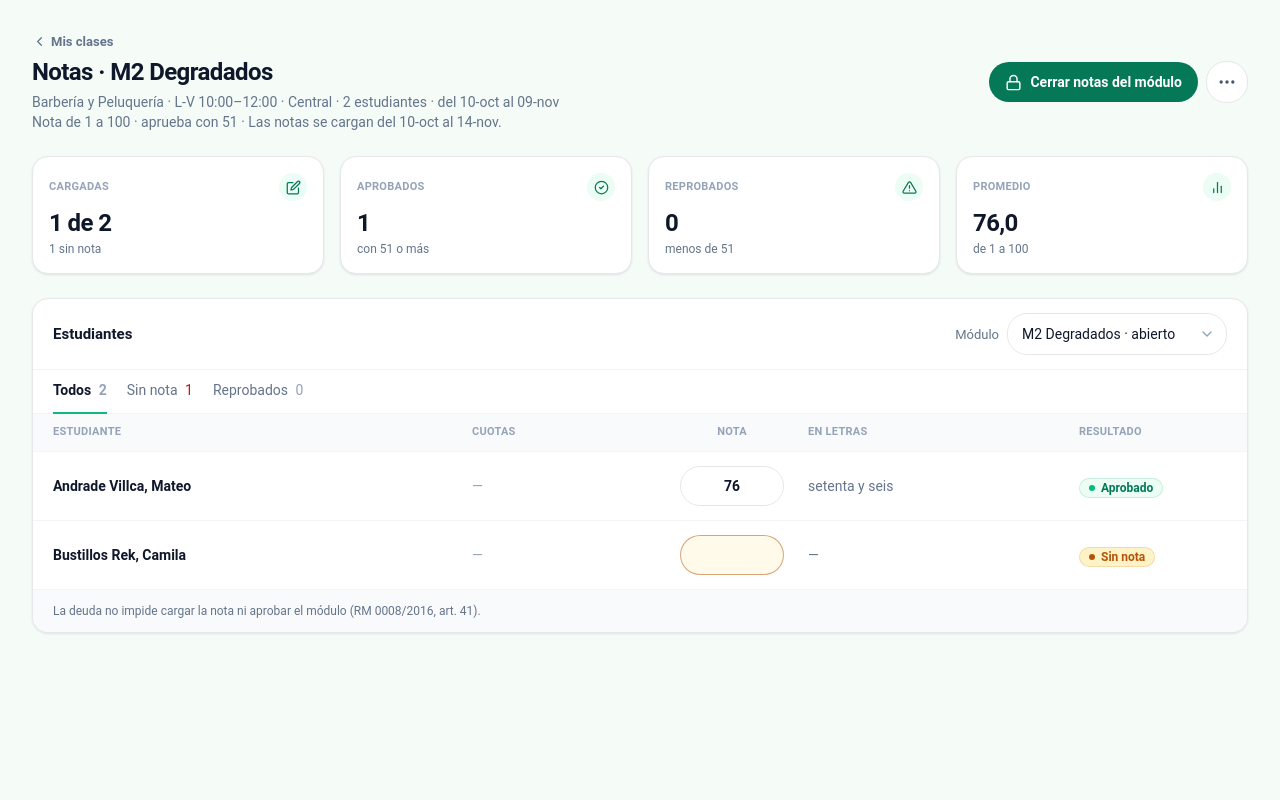
Test: L7 · Notas: borrador y «Guardar notas» › «Guardar notas» manda UN solo pedido con todas las cambiadas, y la barra se va
Replace the text in the field named "Nota de Andrade Villca, Mateo" with "80" at {"x": 732, "y": 486}, box [680,466,784,506]
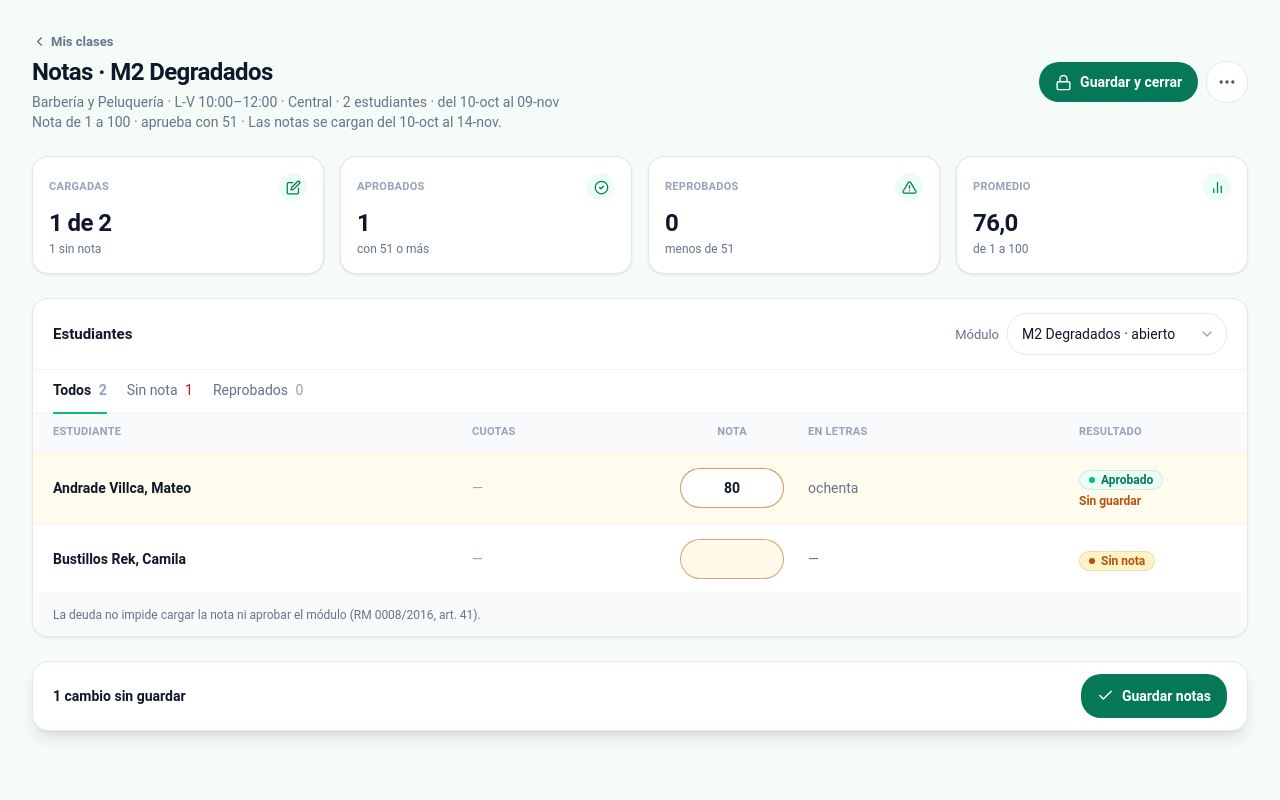
Type "45" into the field named "Nota de Bustillos Rek, Camila" at {"x": 732, "y": 559}, box [680,539,784,579]
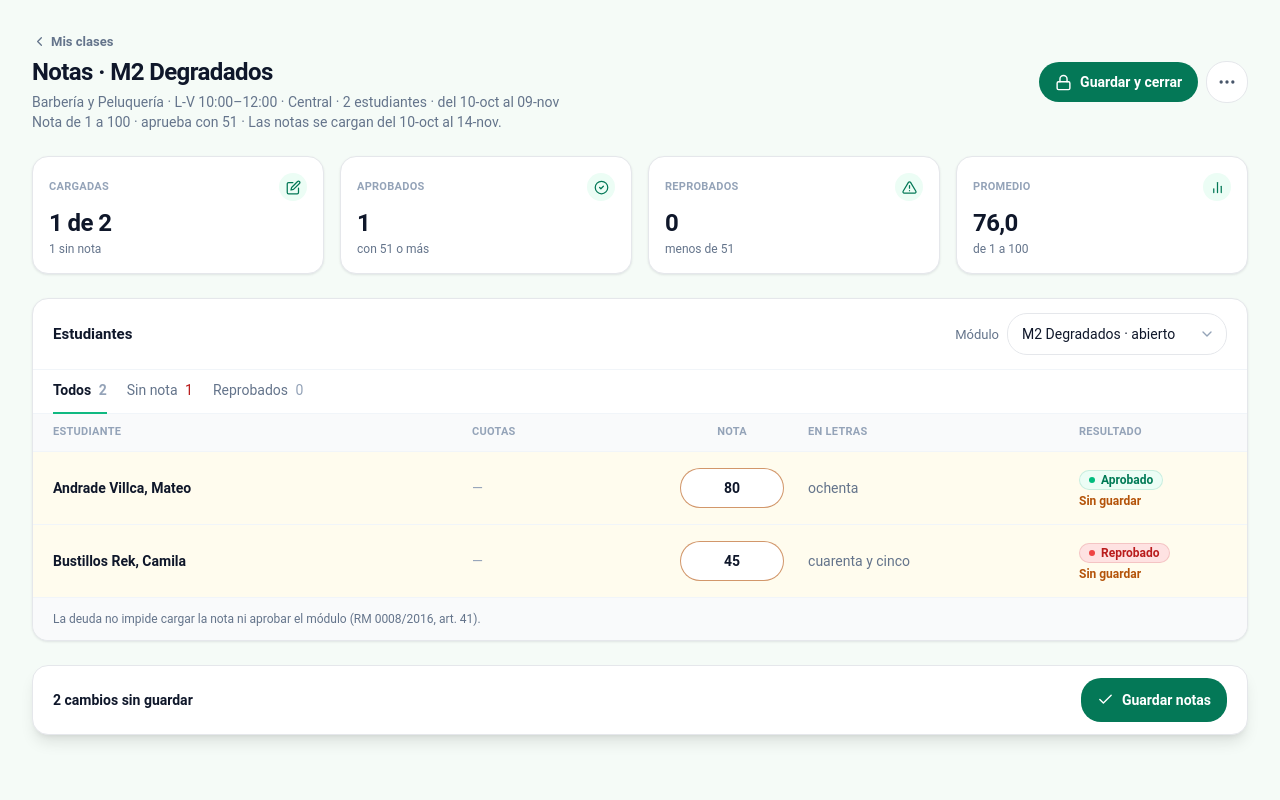
Check: the element named "Notas sin guardar" shows "2 cambios sin guardar", box [53,692,193,708]
Click the button "Guardar notas" at {"x": 1154, "y": 700}, box [1081,678,1227,722]
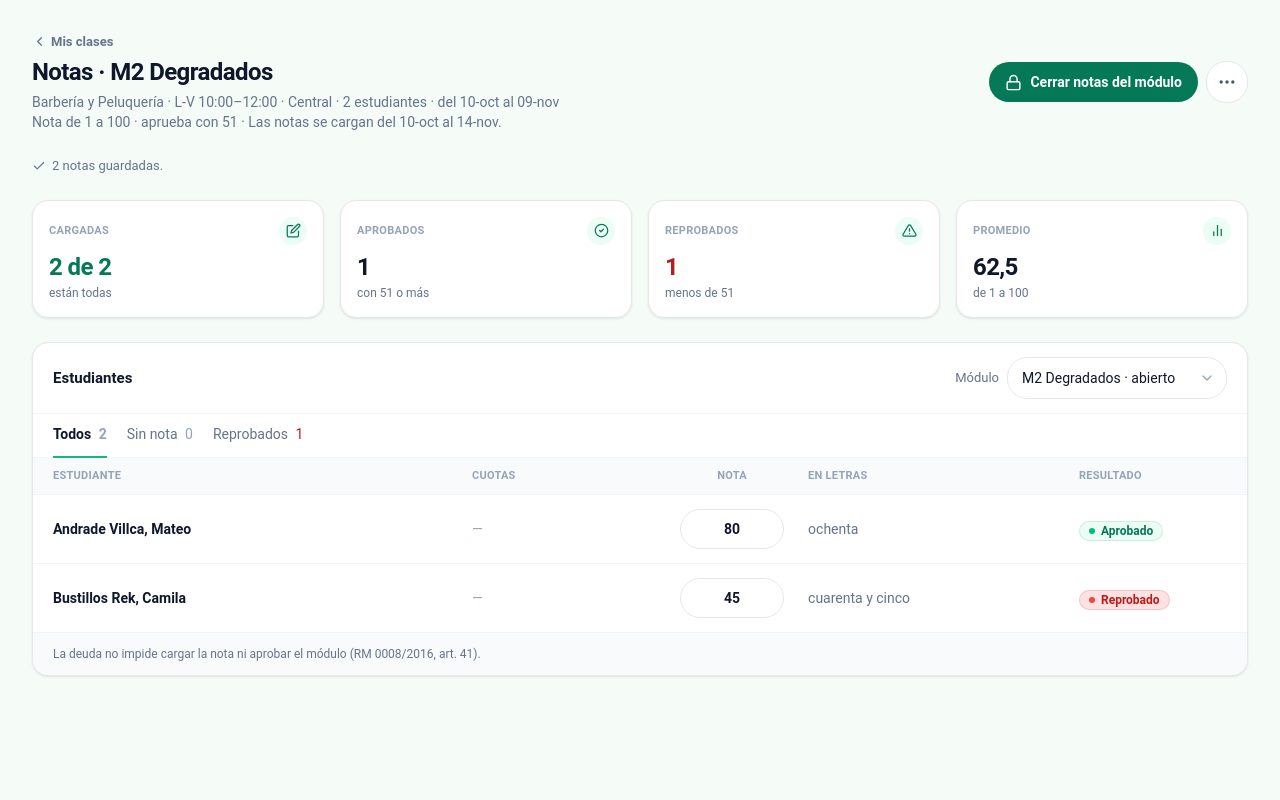
Check: the text "Reprobado" is shown, box [1079,590,1170,610]
Check: the text "2 notas guardadas." is shown, box [32,158,163,173]
